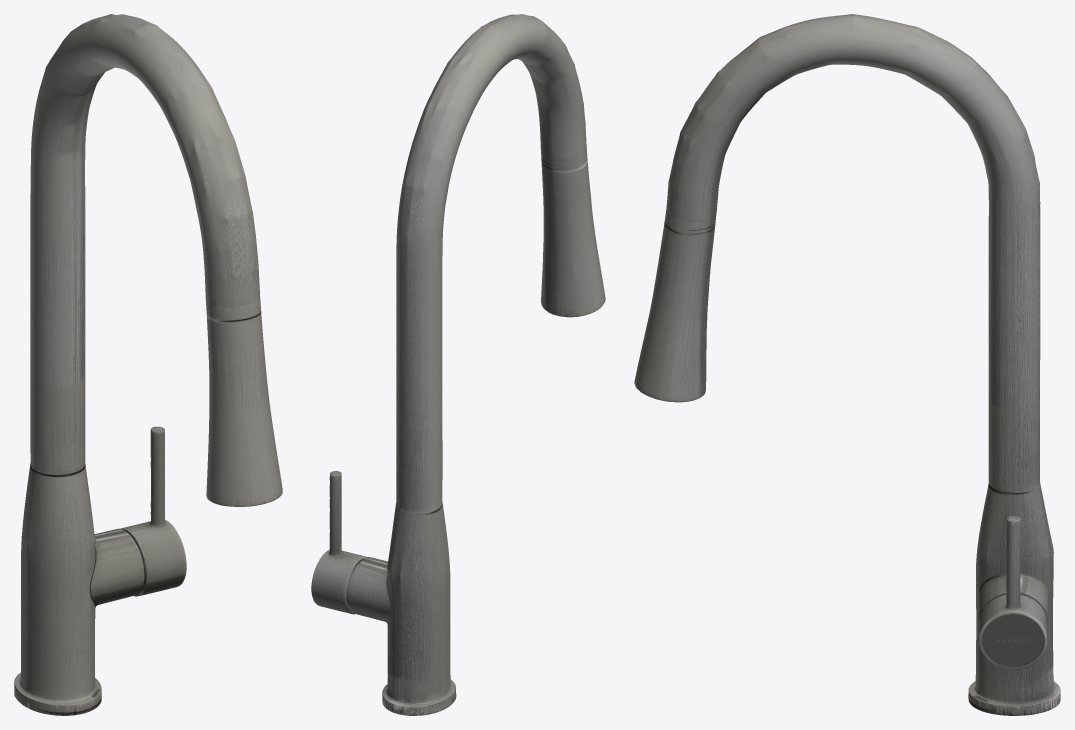
The picture shows the model from 3 angles, left to right: view 1: azimuth 30°, elevation 25°; view 2: azimuth 150°, elevation 25°; view 3: azimuth 270°, elevation 25°; orthographic projection. The views are drawn at different scales.
Bounding box in the file's own units: 0.3967 × 1.9 × 1.07.
Materials: 1 (1 with a texture image).
